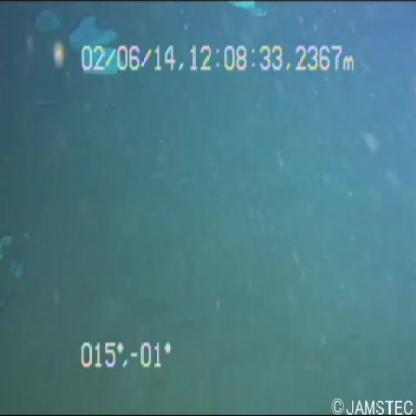Rác: (57, 11, 129, 86)
